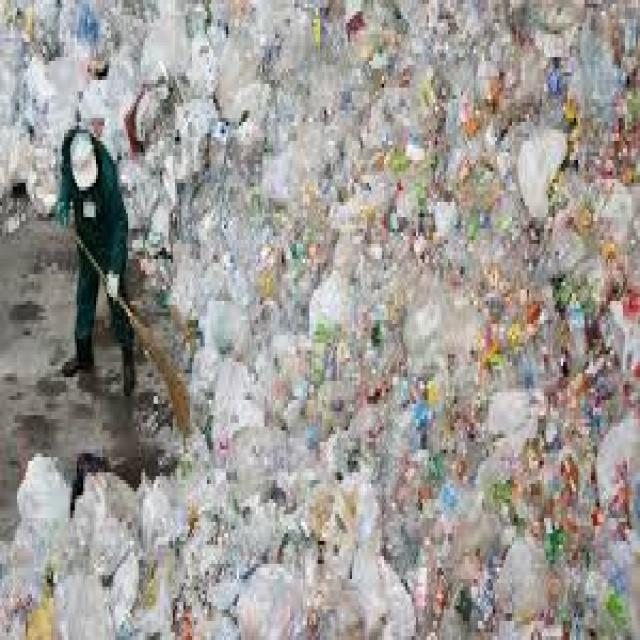heap: (210, 27, 626, 640)
